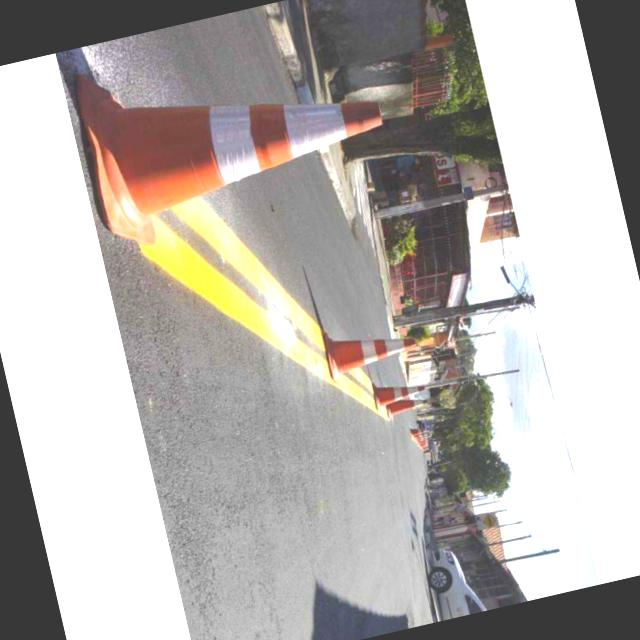cone: (80, 35, 404, 242), (325, 316, 425, 378), (372, 374, 430, 404)
